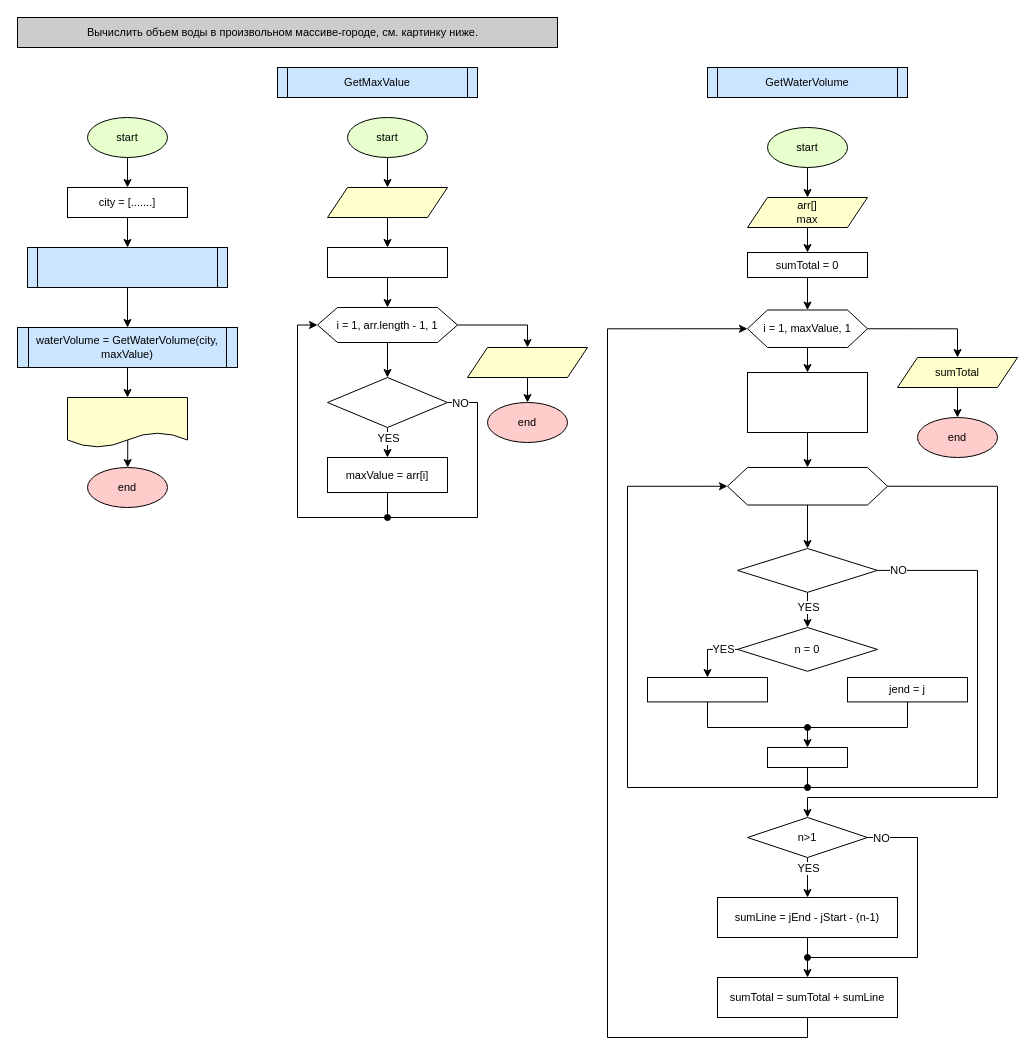
This 1035x1063 diagram has some shape labels left out. The shapes that lost their labels are listed below. From the top down, each one's centre as x and y in pixels, then its label:
At point 387,202: "arr[]".
At point 127,267: "maxValue = GetMaxValue(city)".
At point 387,262: "maxValue = arr[0]".
At point 527,362: "maxValue".
At point 127,422: "waterVolume".
At point 387,402: "arr[i] > maxValue".
At point 807,402: "jStart = 0 jEnd = 0 n = 0 sumLine = 0".
At point 807,485: "j = 0, arr.lenght - 1, 1".
At point 807,570: "arr[j] ≥ i".
At point 707,689: "jStart = j".
At point 807,757: "n = n+1".
